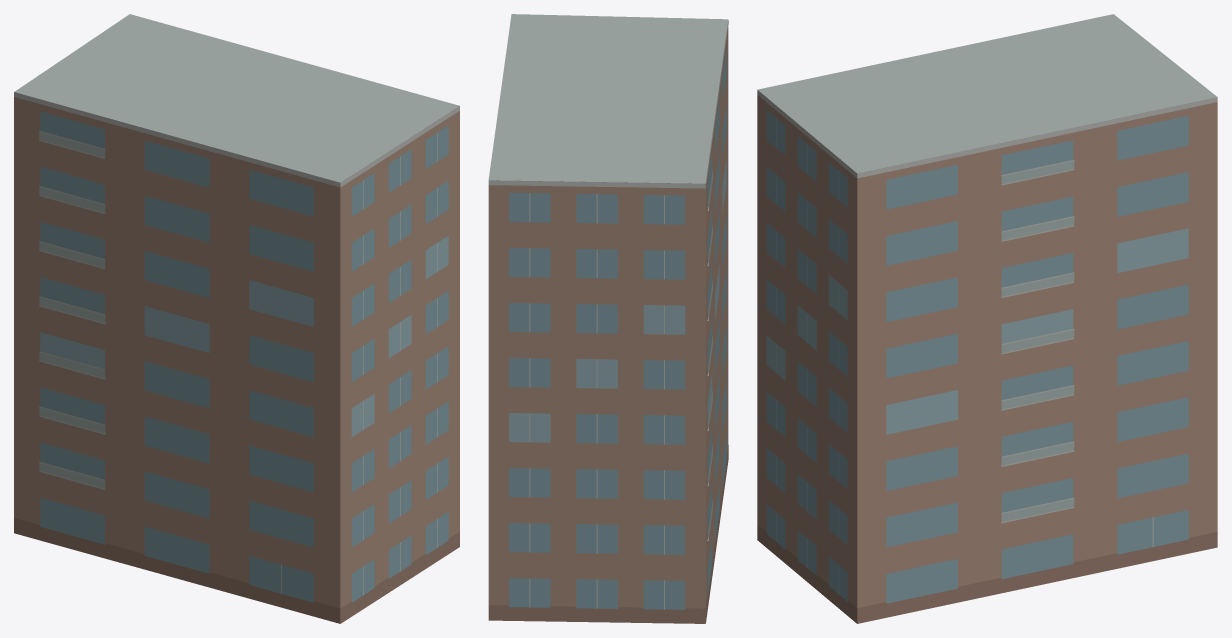
Rendered from survey-upis-32736068.glb.
The picture shows the model from 3 angles, left to right: view 1: azimuth 30°, elevation 25°; view 2: azimuth 150°, elevation 25°; view 3: azimuth 270°, elevation 25°; orthographic projection. The views are drawn at different scales.
Visible parts, largest first — view 1: survey-upis-32736068.tmp; view 2: survey-upis-32736068.tmp; view 3: survey-upis-32736068.tmp.
Boxes of the visible parts, left/top/right/bottom form: survey-upis-32736068.tmp: left=14, top=14, right=459, bottom=623; survey-upis-32736068.tmp: left=488, top=14, right=728, bottom=623; survey-upis-32736068.tmp: left=757, top=14, right=1217, bottom=623.
Bounding box in the file's own units: 16.8 × 22.1 × 20.48.
